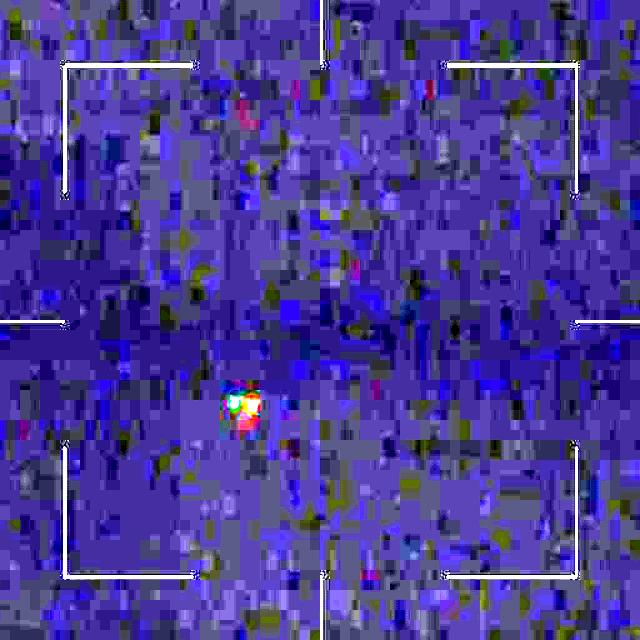bird: (226, 394, 260, 432)
